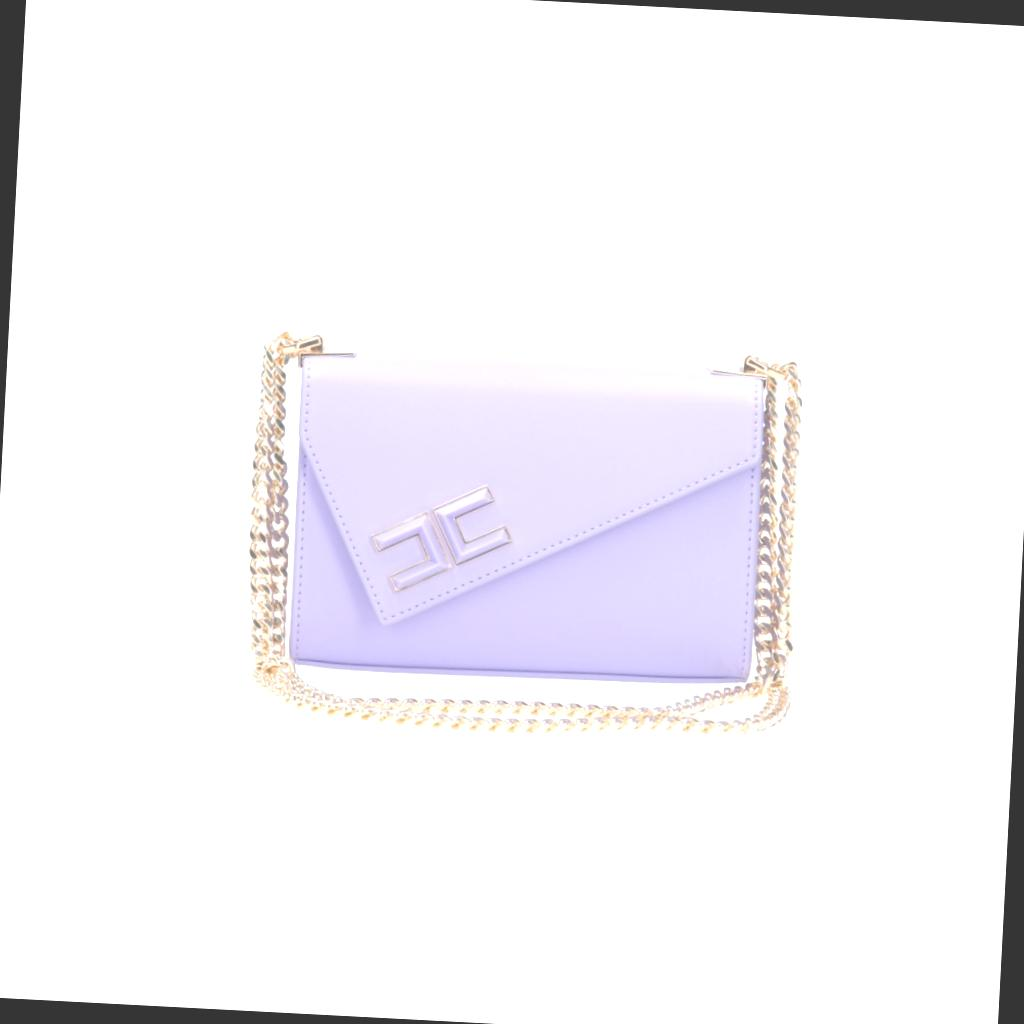ELISABETTA-FRANCHI: (350, 466, 536, 612)
